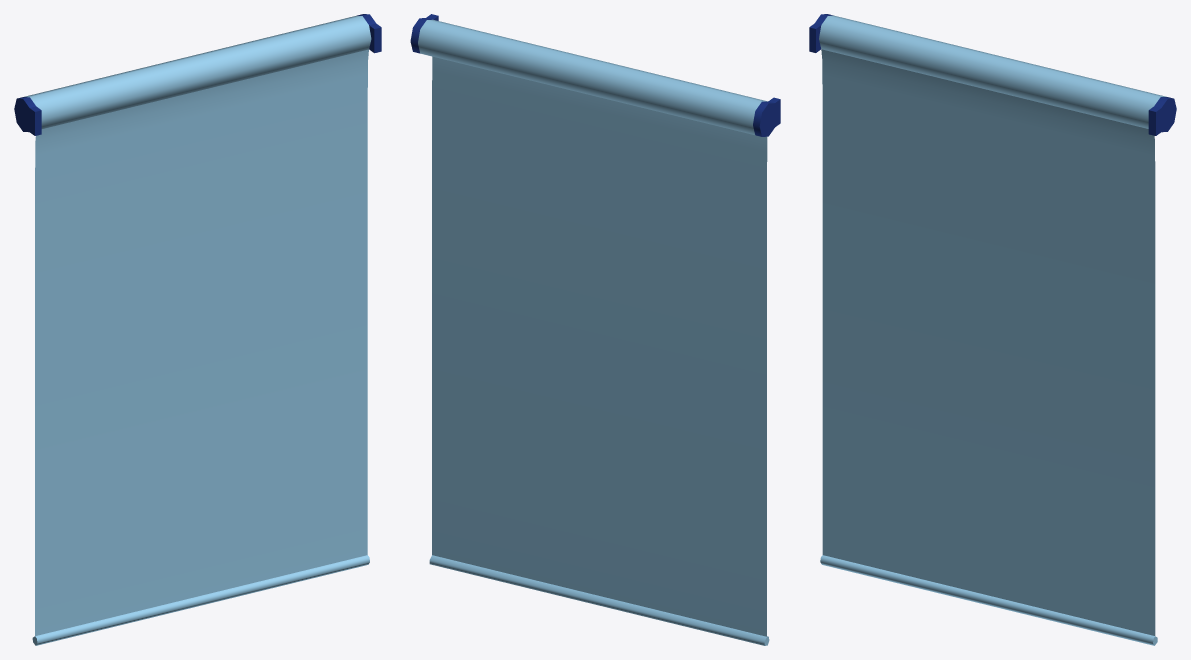
Rendered from Prop_curtain.fbx.
The picture shows the model from 3 angles, left to right: view 1: azimuth 30°, elevation 25°; view 2: azimuth 150°, elevation 25°; view 3: azimuth 330°, elevation 25°; orthographic projection.
Visible parts, largest first — view 1: Prop_curtain2 (×2), Prop_curtain; view 2: Prop_curtain2 (×2), Prop_curtain; view 3: Prop_curtain2 (×2), Prop_curtain.
Part boxes in pixels (x1,y1,x2,y2): Prop_curtain2 (×2): [32, 49, 369, 645]; Prop_curtain: [14, 14, 381, 135]; Prop_curtain2 (×2): [429, 56, 769, 645]; Prop_curtain: [410, 14, 780, 136]; Prop_curtain2 (×2): [820, 49, 1157, 645]; Prop_curtain: [809, 14, 1176, 135].
Size of the model in its own units: 44.76 by 4.63 by 67.14.
